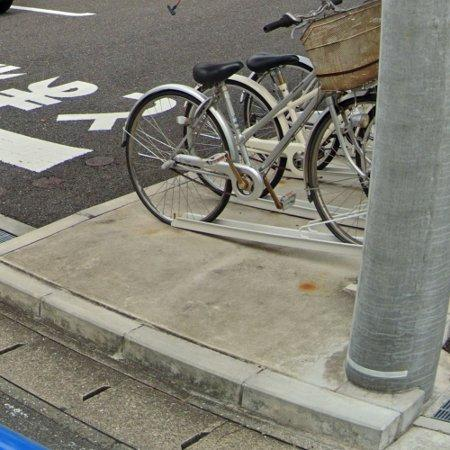bicycles: (123, 0, 380, 244)
